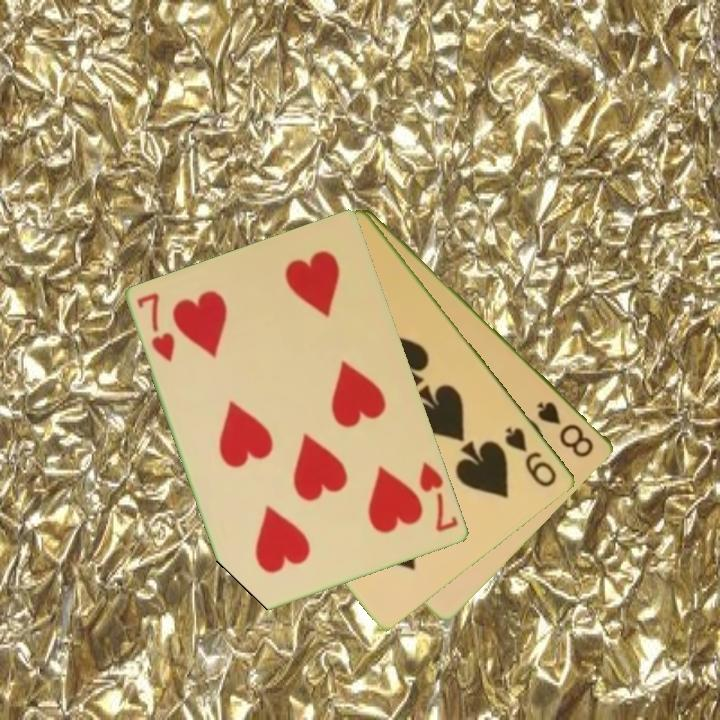7h: (416, 459, 462, 535), (134, 289, 179, 366)
8s: (534, 397, 598, 461)
9s: (501, 423, 561, 490)
